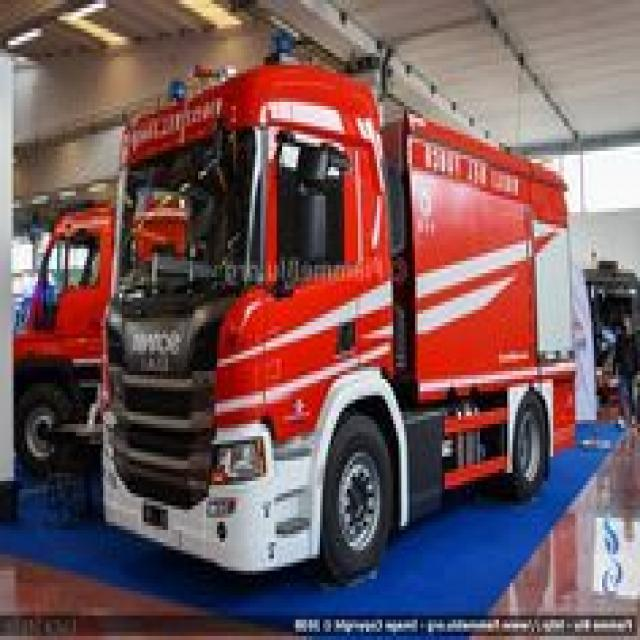emergency: (100, 70, 574, 580)
